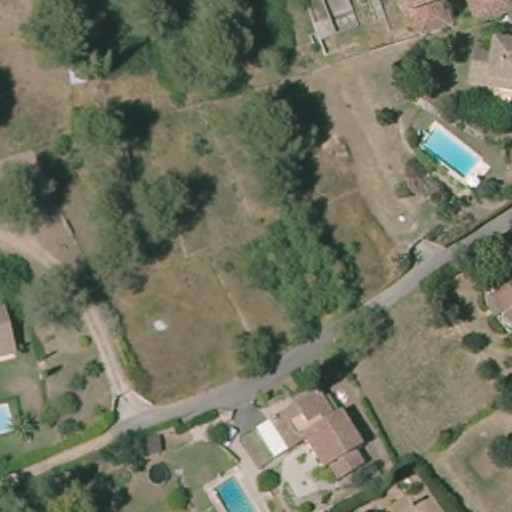pool: (418, 123, 484, 180), (210, 474, 261, 512), (1, 400, 20, 441)
